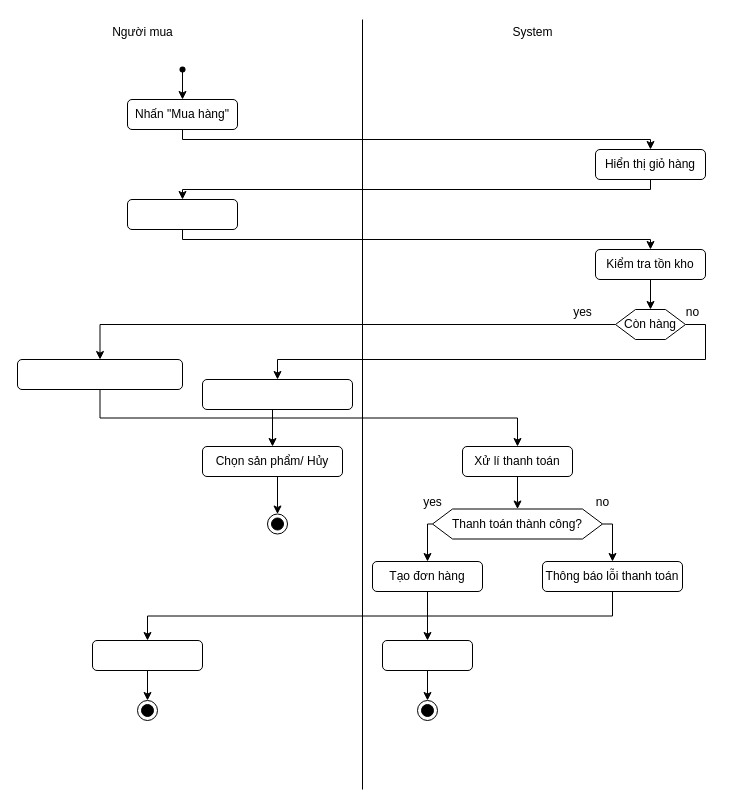
Image size: 731x808. Some labels were removed from this diagram. Each missing label, with the centre of its shape:
Chọn lại/ Hủy: point (147, 655)
Chọn phương thức thanh toán: point (99, 374)
Gửi thông báo xác nhận: point (427, 655)
Thông báo hết hàng: point (277, 394)
Xác nhận đơn hàng: point (182, 214)
